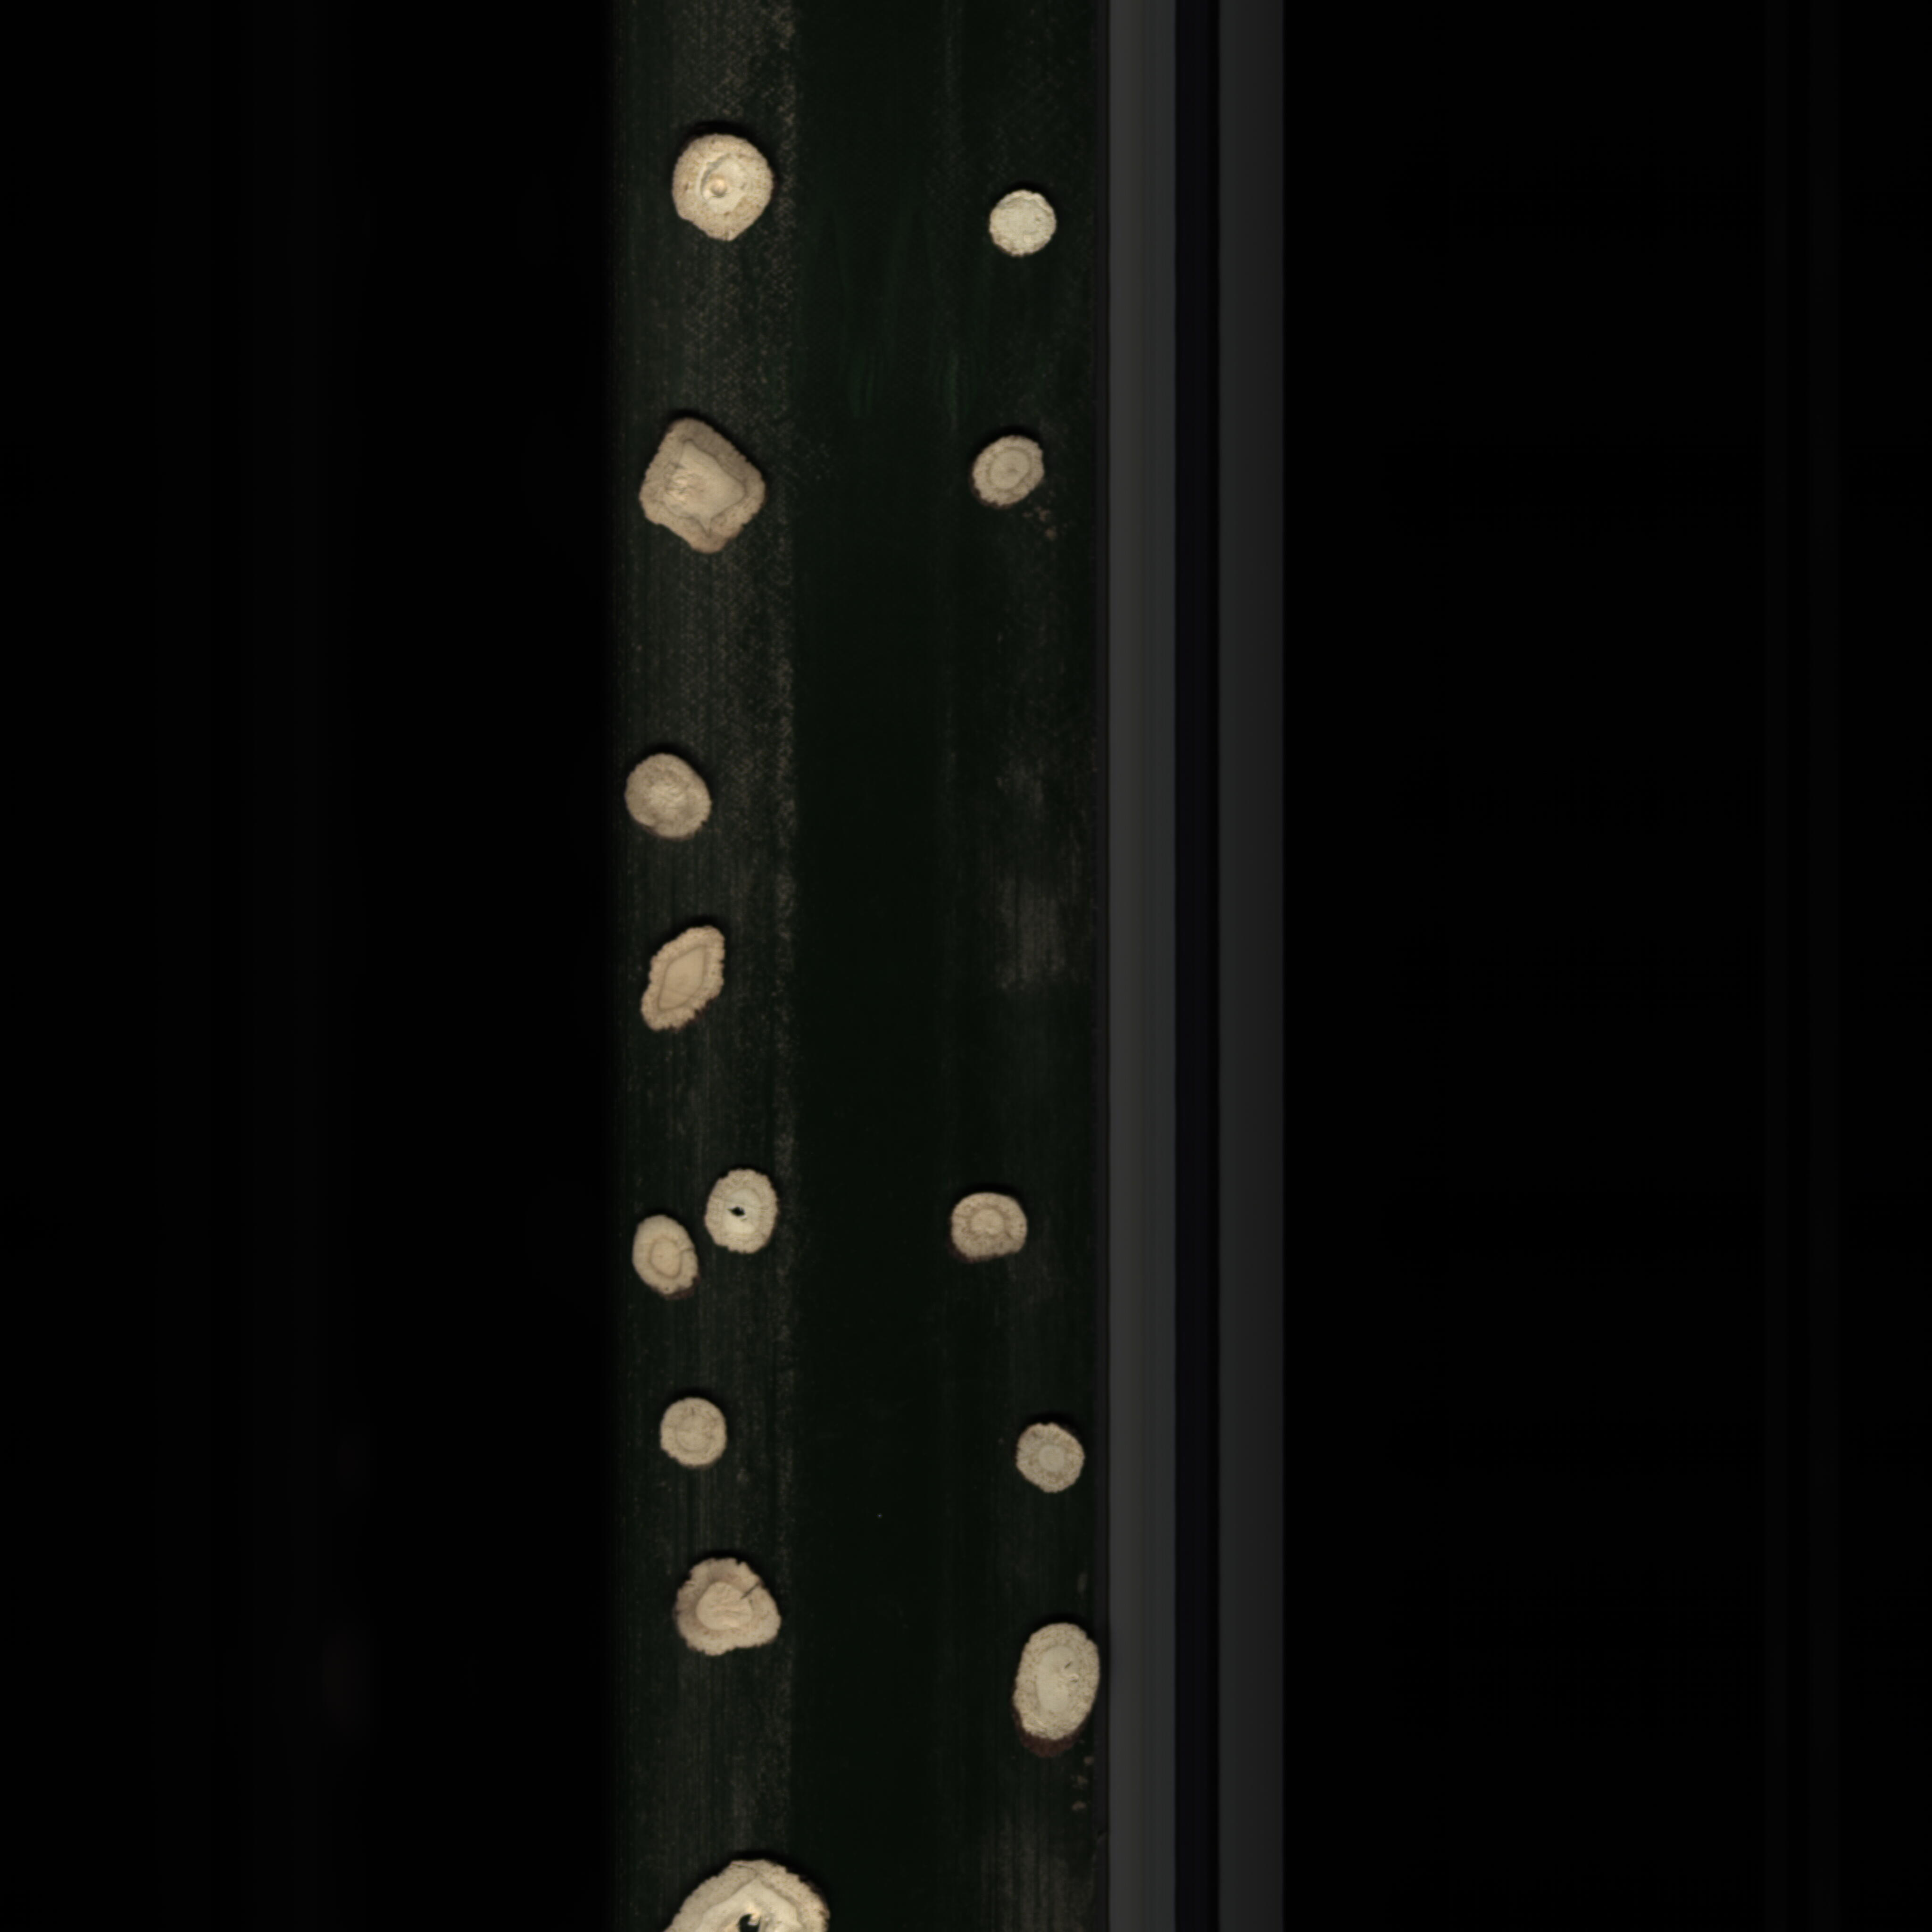hole: (651, 1845, 832, 1932), (702, 1161, 789, 1253)
